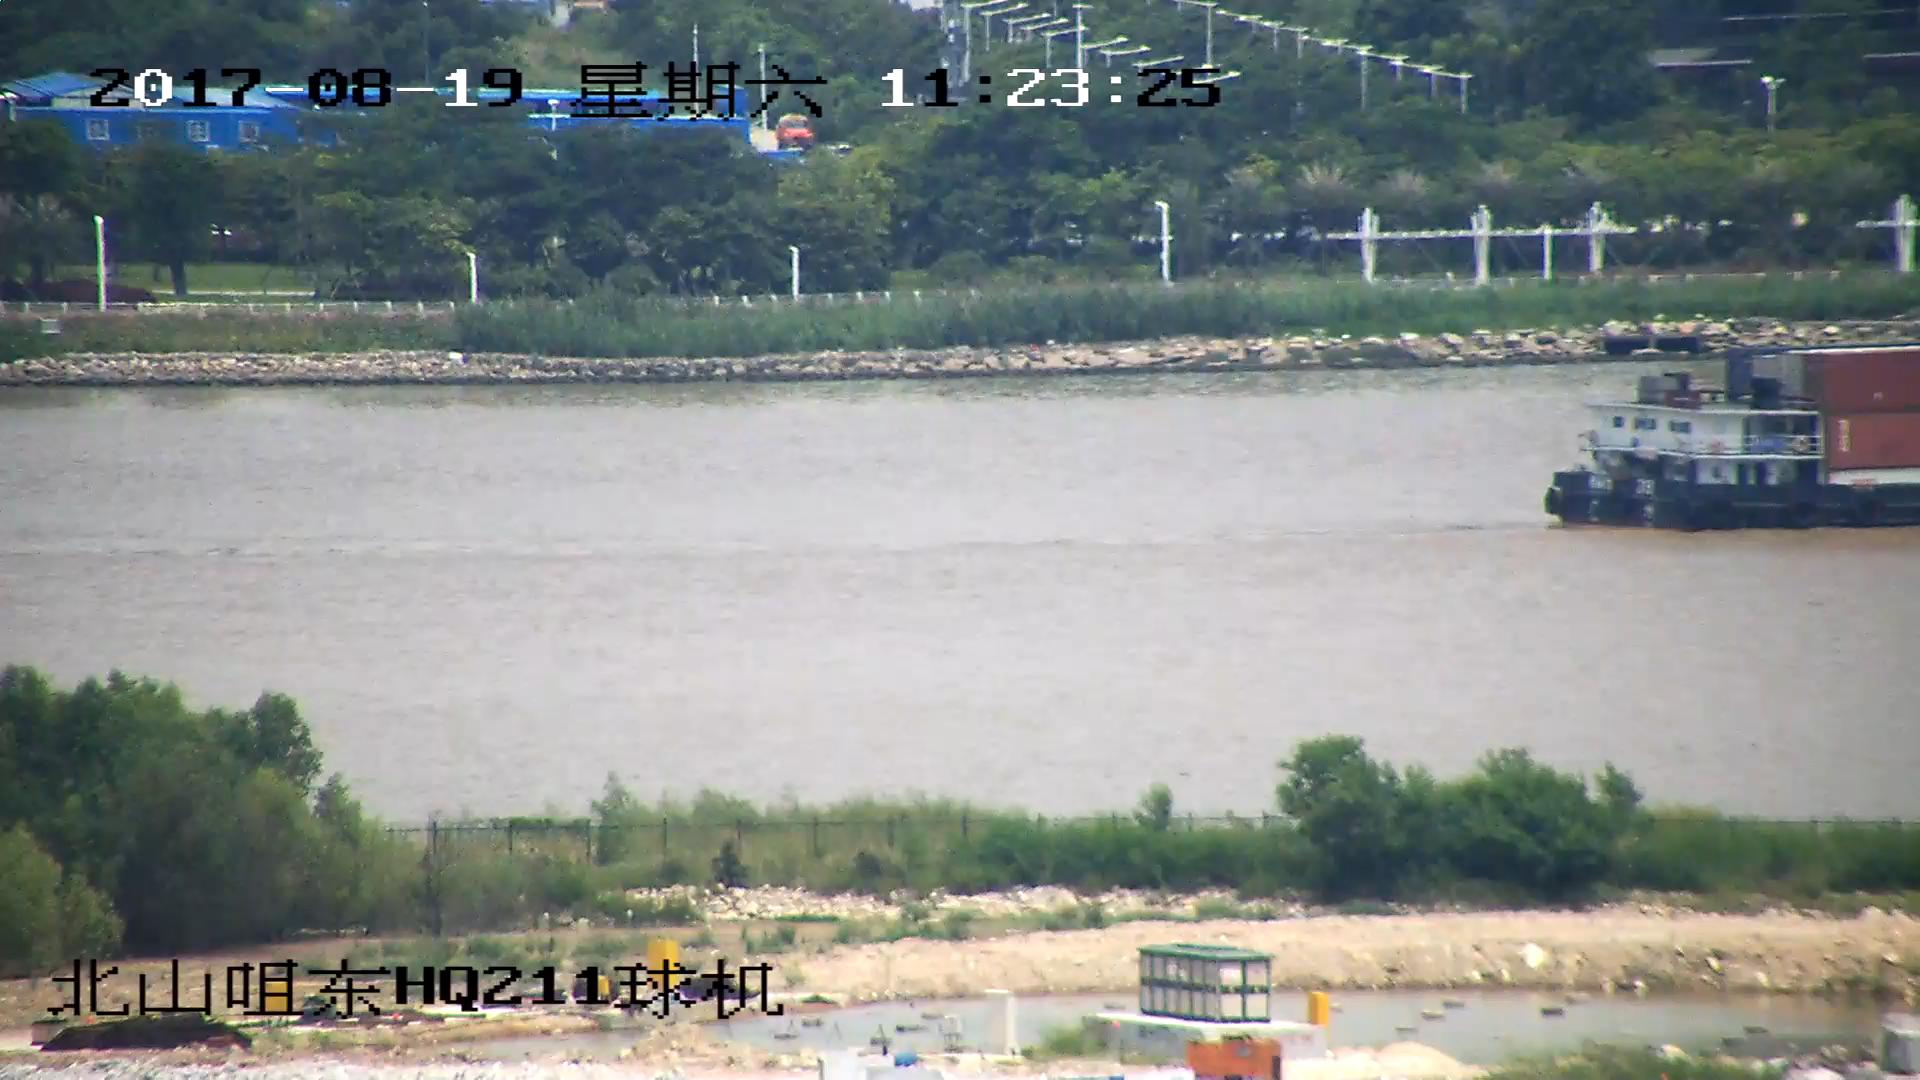container ship: (1527, 344, 1920, 530)
